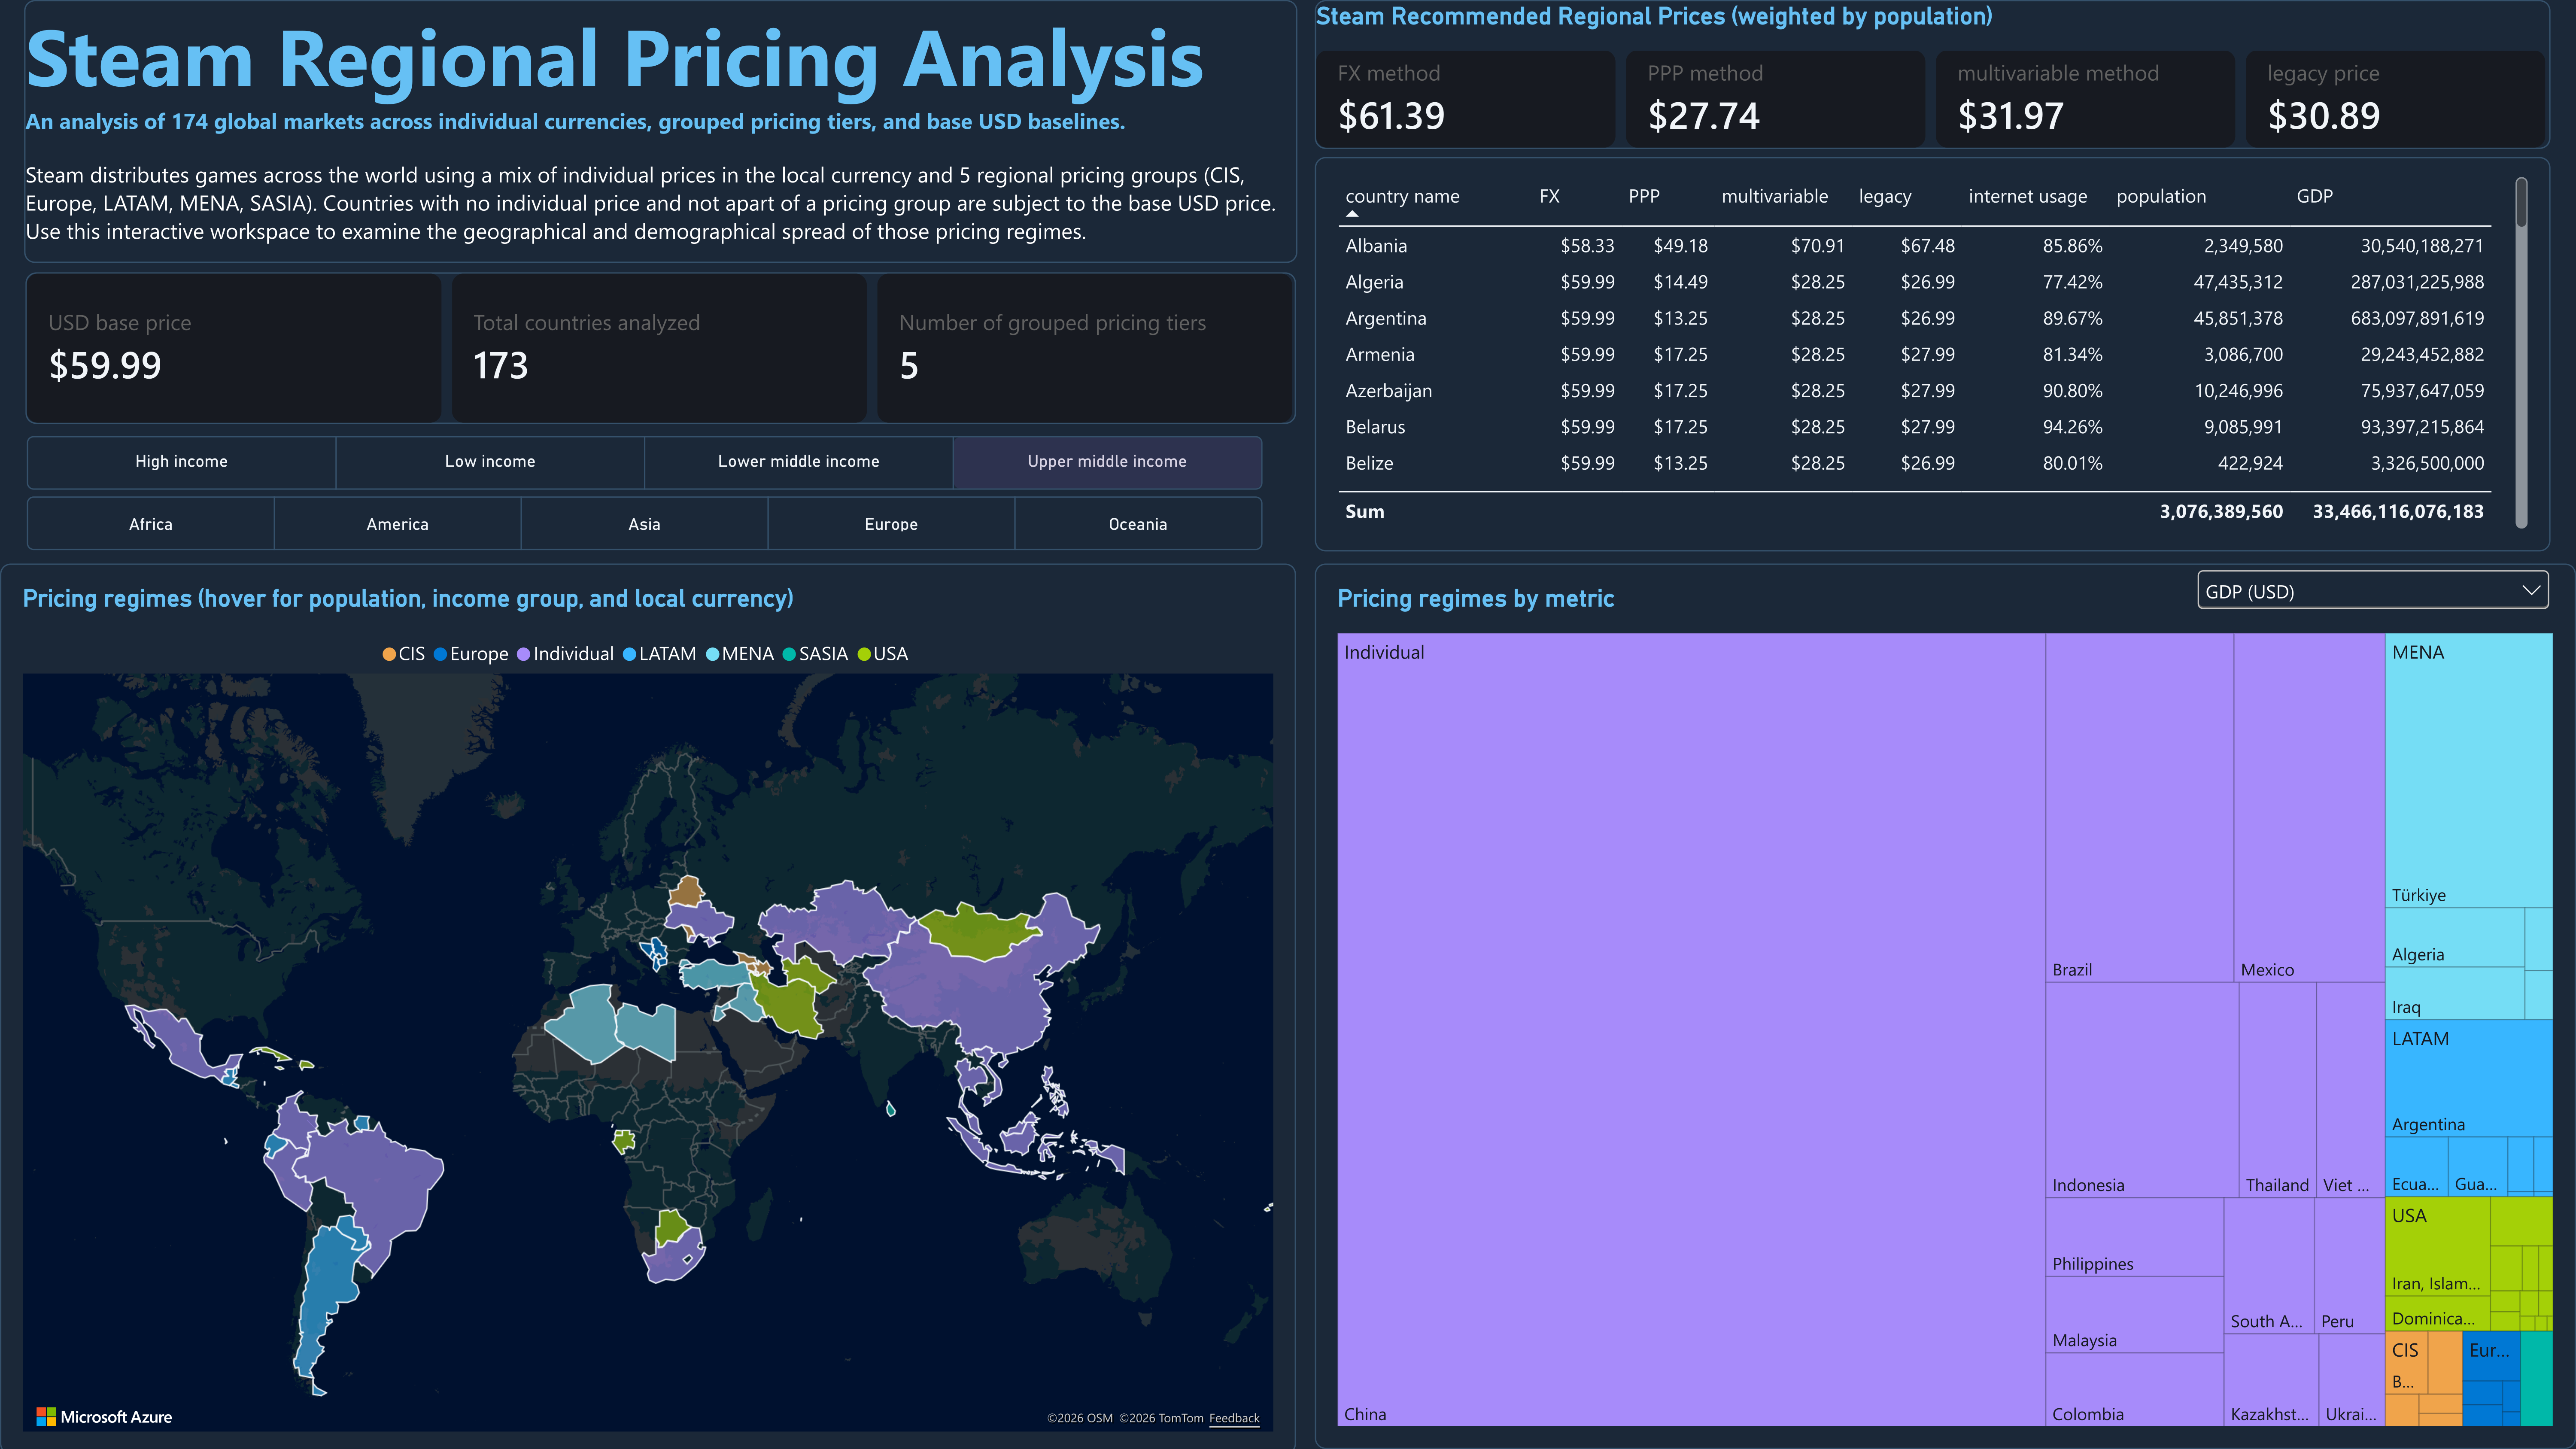

The dashboard page shown, as its layout file describes it:
{"tool":"powerbi","page":{"name":"Geographic and demographic distribution of pricing regimes","canvas":[1920,1080],"ordinal":0},"visuals":[{"type":"azureMap","title":"Pricing regimes (hover for population, income group, and local currency)","fields":{"Category":["steam_regional_pricing_dataset.iso2","steam_regional_pricing_dataset.iso3"],"Series":["steam_regional_pricing_dataset.group_name"]},"box":[0,419.8,965.8,664.2],"z":0},{"type":"treemap","title":"Pricing regimes by metric","fields":{"Details":["steam_regional_pricing_dataset.country_name"],"Group":["steam_regional_pricing_dataset.group_name"],"Values":["steam_regional_pricing_dataset.Total Population"]},"box":[980.4,419.8,939.2,660.2],"z":1000},{"type":"cardVisual","fields":{"Data":["steam_regional_pricing_dataset.USD Base Price","steam_regional_pricing_dataset.Total Countries Analyzed","steam_regional_pricing_dataset.Number of Grouped Pricing Tiers"]},"box":[18.6,202.9,947.1,113.6],"z":2000},{"type":"cardVisual","title":"Steam Recommended Regional Prices (weighted by population)","fields":{"Data":["steam_regional_pricing_dataset.Weighted Average Price FX","steam_regional_pricing_dataset.Weighted Average Price PPP","steam_regional_pricing_dataset.Weighted Average Price multivariable","steam_regional_pricing_dataset.Weighted Average Price legacy"]},"box":[980,0,921.4,111.4],"z":3000},{"type":"advancedSlicerVisual","fields":{"Values":["steam_regional_pricing_dataset.continent"]},"box":[0,370,961,40],"z":4000},{"type":"advancedSlicerVisual","fields":{"Values":["steam_regional_pricing_dataset.WB_income_classification"]},"box":[0,325,961.4,40],"z":5000},{"type":"slicer","fields":{"Values":["treemap parameters.treemap parameters"]},"box":[1633.3,420,271.7,55],"z":6000},{"type":"textbox","box":[18,0,948.6,195.7],"z":7000},{"type":"tableEx","fields":{"Values":["steam_regional_pricing_dataset.country_name","steam_regional_pricing_dataset.price_steam_FX_USD","steam_regional_pricing_dataset.price_steam_PPP_USD","steam_regional_pricing_dataset.price_steam_multivariable_USD","steam_regional_pricing_dataset.price_steam_legacy_USD","steam_regional_pricing_dataset.WB_percent_using_internet","Sum(steam_regional_pricing_dataset.total_population)","Sum(steam_regional_pricing_dataset.WB_GDP_USD)"]},"box":[980,117.1,921.4,294.3],"z":8000}]}

Visuals, with their boxes in screenshot pixels (x1, y1, x2, y2), scaled from the page's 1920x1080 canvas onto the 2576x1449 screenshot:
"Pricing regimes (hover for population, income group, and local currency)" azureMap: bbox=(0, 563, 1296, 1449)
"Pricing regimes by metric" treemap: bbox=(1315, 563, 2576, 1449)
cardVisual - steam_regional_pricing_dataset.USD Base Price x steam_regional_pricing_dataset.Total Countries Analyzed: bbox=(25, 272, 1296, 425)
"Steam Recommended Regional Prices (weighted by population)" cardVisual: bbox=(1315, 0, 2551, 149)
advancedSlicerVisual - steam_regional_pricing_dataset.continent: bbox=(0, 496, 1289, 550)
advancedSlicerVisual - steam_regional_pricing_dataset.WB_income_classification: bbox=(0, 436, 1290, 490)
slicer - treemap parameters.treemap parameters: bbox=(2191, 563, 2556, 637)
textbox: bbox=(24, 0, 1297, 263)
tableEx - steam_regional_pricing_dataset.country_name x steam_regional_pricing_dataset.price_steam_FX_USD: bbox=(1315, 157, 2551, 552)
